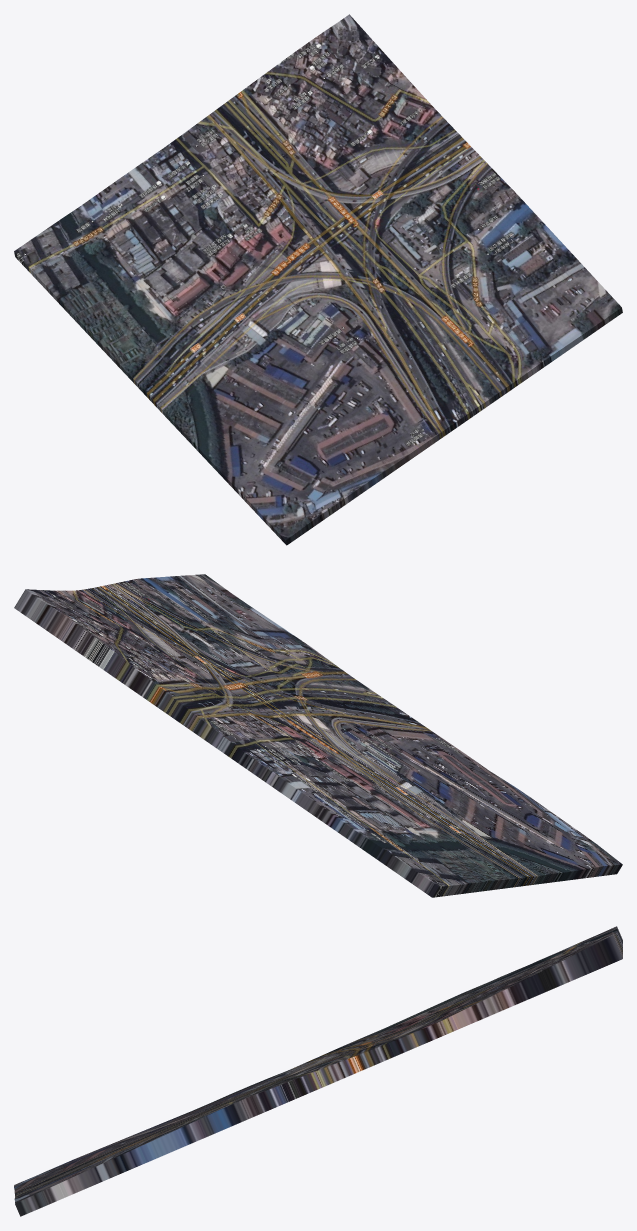
The picture shows the model from 3 angles, top to bottom: view 1: azimuth 30°, elevation 25°; view 2: azimuth 150°, elevation 25°; view 3: azimuth 270°, elevation 25°; orthographic projection. The views are drawn at different scales.
Visible parts, largest first — view 1: 0_2_3; view 2: 0_2_3; view 3: 0_2_3.
Boxes of the visible parts, box(x1,y1,x2,y2) form: 0_2_3: box(14, 14, 622, 545); 0_2_3: box(14, 574, 622, 897); 0_2_3: box(14, 926, 622, 1216).
Bounding box in the file's own units: 597 × 448 × 548.
1 material, 1 textured.
